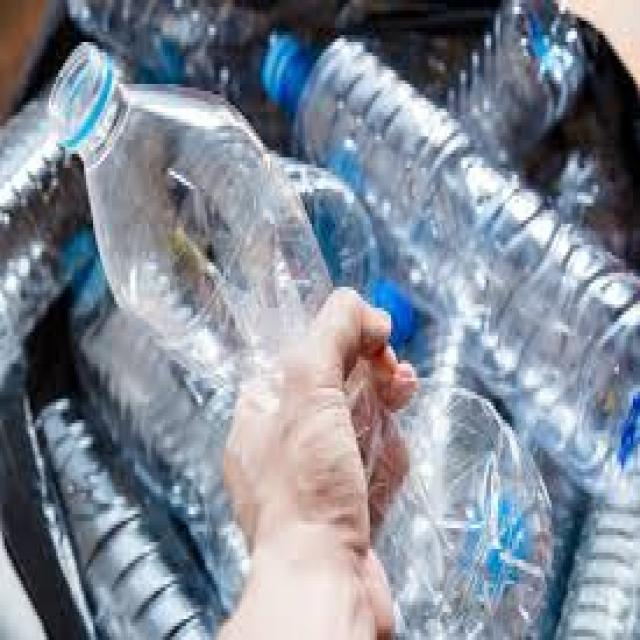bottle: (23, 19, 500, 606), (553, 598, 554, 598)
